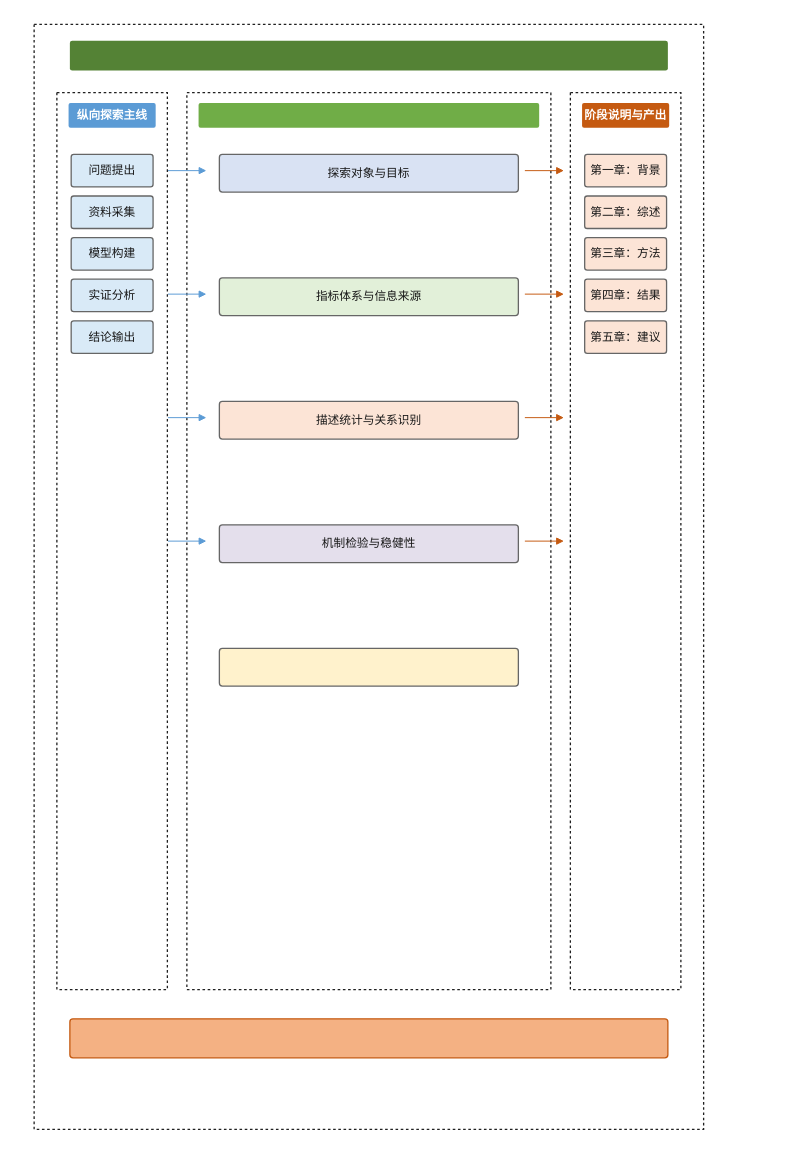
This 806x1155 diagram has some shape labels left out. The shapes that lost their labels are listed below. From the top down, each one's box as (x1, y1, x2, y2) in pixels, then its label:
(70, 40, 668, 70): 纵向探索设计与实证闭环图
(198, 103, 539, 127): 信息—方法—结果组织
(218, 647, 519, 686): 策略建议与成果
(69, 1018, 668, 1058): 形成可复核的探索闭环：问题—信息—方法—结果—建议
